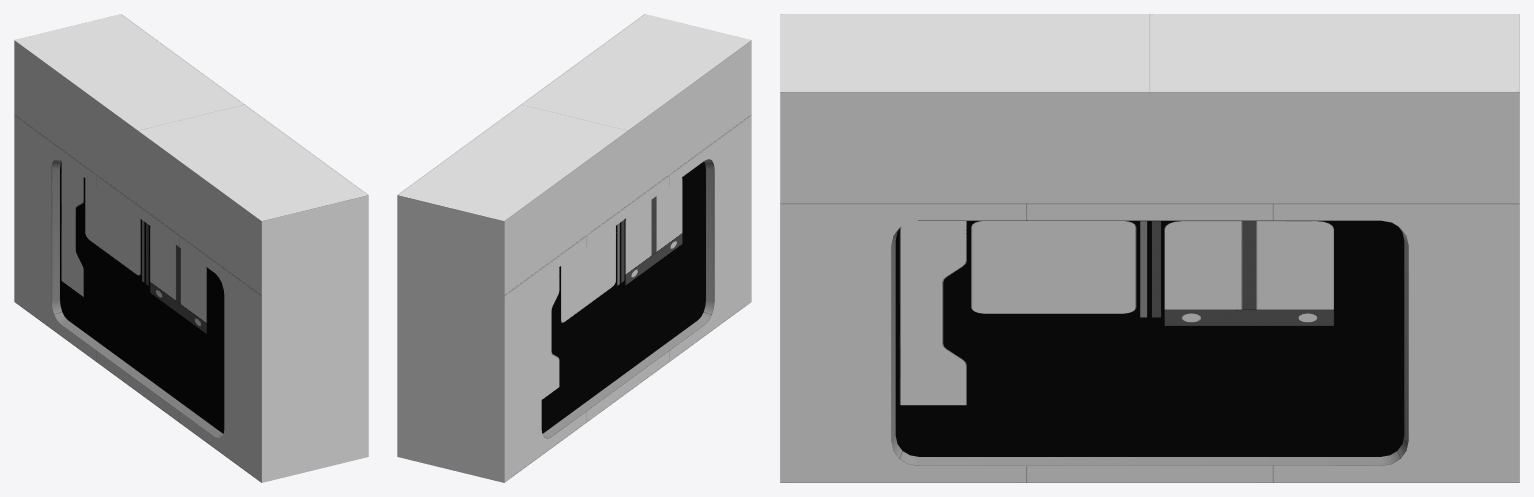
The model's file is Wall_Int_Normal_03.FBX.
The picture shows the model from 3 angles, left to right: view 1: azimuth 30°, elevation 25°; view 2: azimuth 150°, elevation 25°; view 3: azimuth 270°, elevation 25°; orthographic projection. The views are drawn at different scales.
Visible parts, largest first — view 1: Wall_Int_Normal_03, Screen_A; view 2: Wall_Int_Normal_03, Screen_A; view 3: Wall_Int_Normal_03, Screen_B.
Boxes of the visible parts, box(x1,y1,x2,y2) form: Wall_Int_Normal_03: box(14, 14, 368, 482); Screen_A: box(60, 161, 224, 433); Wall_Int_Normal_03: box(397, 14, 751, 482); Screen_A: box(541, 161, 705, 433); Wall_Int_Normal_03: box(780, 14, 1519, 482); Screen_B: box(895, 220, 1404, 456).
Size of the model in its own units: 3 by 7 by 12.
